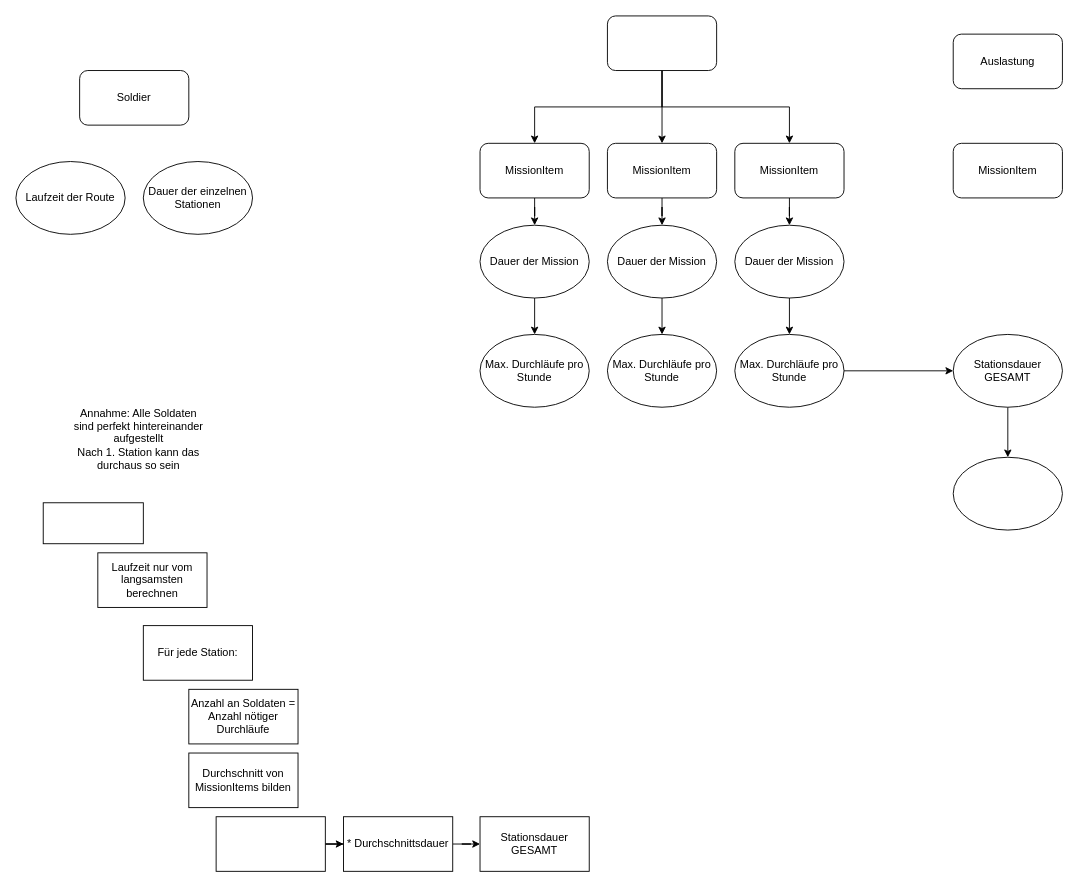
This 1078x887 diagram has some shape labels left out. Each missing label, with the box of its shape:
Anzahl Soldaten / Anzahl MissionItems: (215, 816, 325, 871)
Für Alle Soldaten:: (42, 502, 143, 544)
Max / Ges = Auslastung: (952, 456, 1062, 530)
Max Performance: (607, 15, 717, 71)
